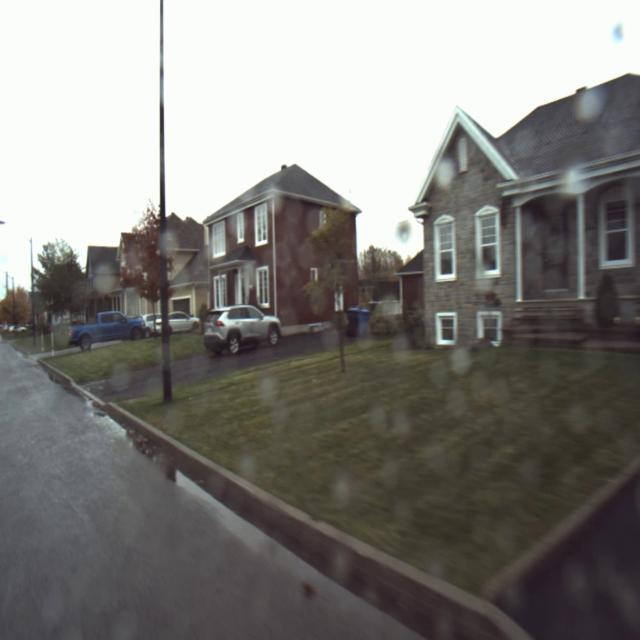car: (194, 294, 288, 362)
